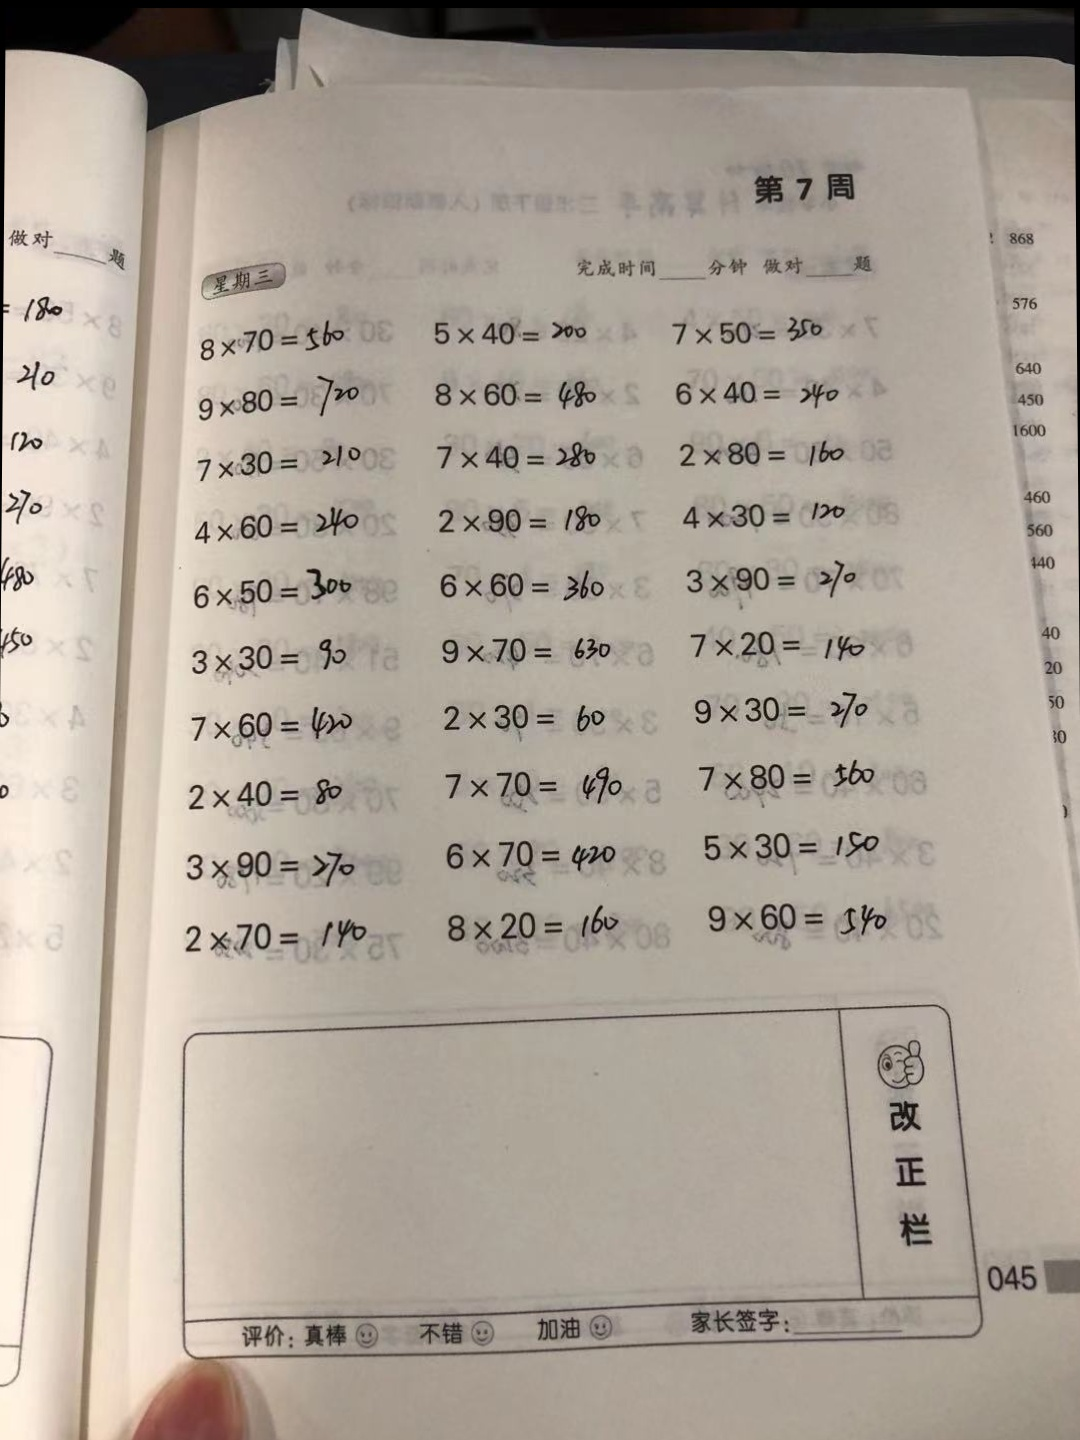equation: (434, 904, 655, 959), (427, 759, 659, 808), (663, 618, 878, 669), (699, 893, 911, 945), (169, 842, 390, 891), (157, 630, 377, 679), (661, 556, 870, 607), (413, 304, 619, 355), (172, 912, 390, 959), (411, 427, 613, 477), (160, 439, 386, 483), (416, 558, 616, 605), (200, 374, 388, 424), (167, 698, 378, 743), (427, 696, 638, 740), (177, 559, 352, 612), (432, 836, 660, 876), (180, 503, 383, 549), (425, 495, 627, 541), (685, 828, 894, 871), (676, 429, 866, 474), (658, 369, 862, 410), (180, 772, 368, 818), (663, 495, 874, 533), (187, 317, 374, 359), (693, 759, 900, 796), (431, 630, 627, 669), (672, 688, 879, 725), (419, 375, 617, 413), (656, 310, 834, 347)
